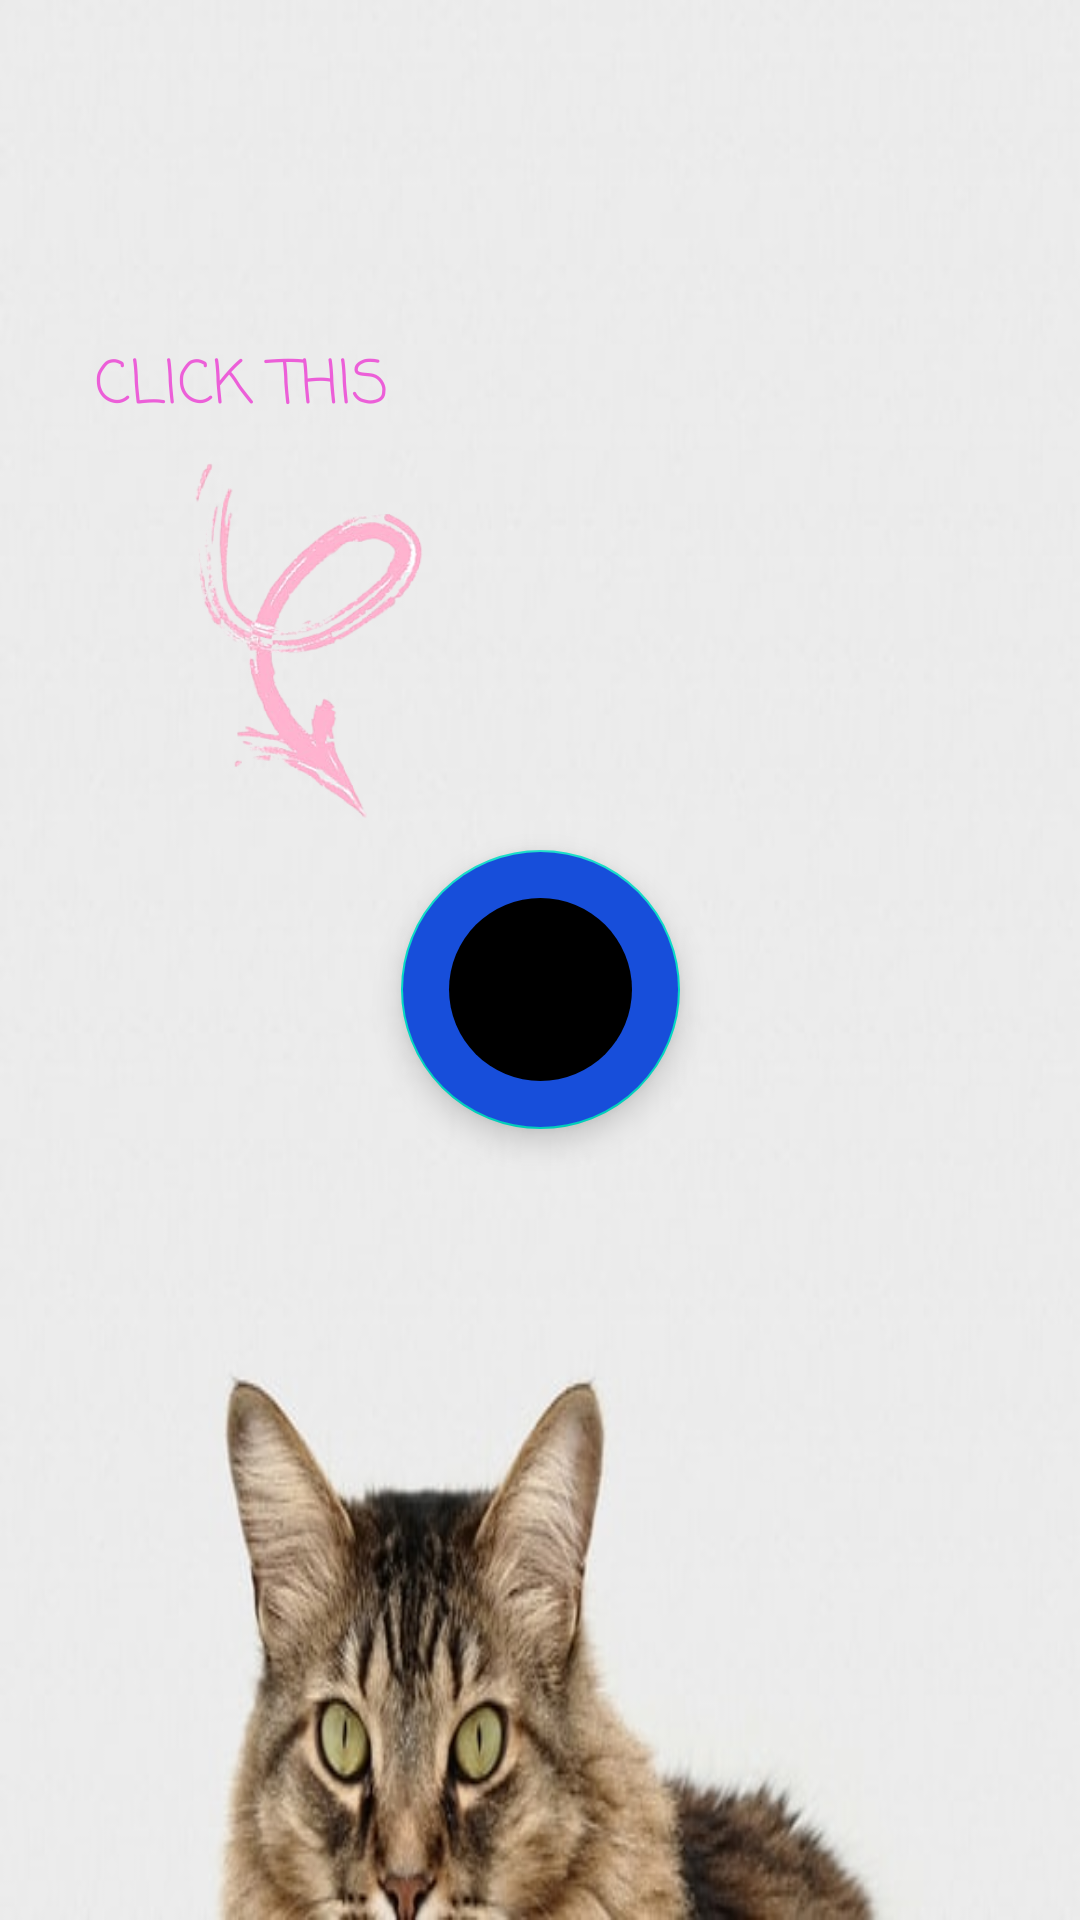

Icons on this 1080w x 1920h Android screen, each with its box as (x1, y1, x2, y2):
round: (401, 850, 680, 1129)
